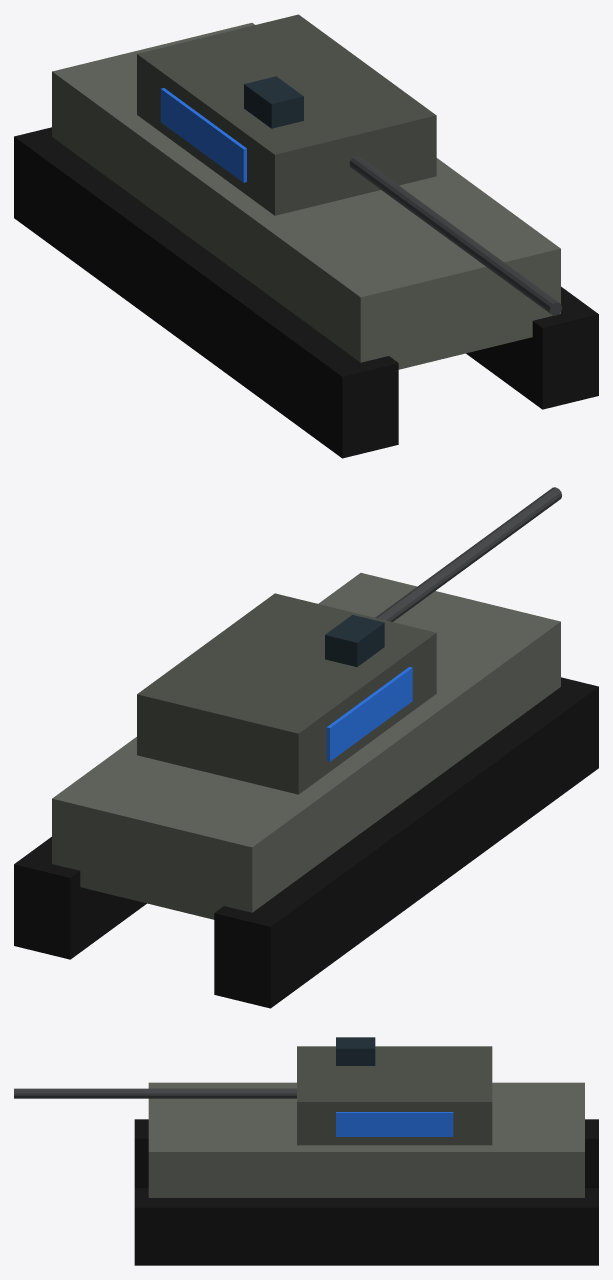
File: eu_mbt.glb
3 views of the same model, one above another, from view 1: azimuth 30°, elevation 25°; view 2: azimuth 150°, elevation 25°; view 3: azimuth 270°, elevation 25° (orthographic). The views are drawn at different scales.
Visible parts, largest first — view 1: hull, track_l, turret, track_r, barrel, team_panel_l, sight; view 2: hull, track_l, turret, track_r, team_panel_l, barrel, sight; view 3: hull, track_r, turret, barrel, team_panel_r, track_l, sight.
Boxes of the visible parts, x1,y1,x2,y2 form: hull: (52,23,560,369); track_l: (14,127,398,458); turret: (137,14,436,215); track_r: (466,286,598,409); barrel: (349,156,562,315); team_panel_l: (160,88,246,182); sight: (244,76,303,128); hull: (52,573,560,919); track_l: (214,677,598,1008); turret: (137,593,436,794); track_r: (14,837,146,959); team_panel_l: (326,667,412,761); barrel: (375,487,561,621); sight: (325,615,384,666); hull: (148,1082,584,1197); track_r: (134,1188,598,1265); turret: (297,1046,492,1145); barrel: (14,1088,296,1098); team_panel_r: (336,1112,453,1136); track_l: (134,1119,598,1188); sight: (336,1037,375,1065).
Size of the model in its own units: 3.7 by 3.2 by 10.33.
